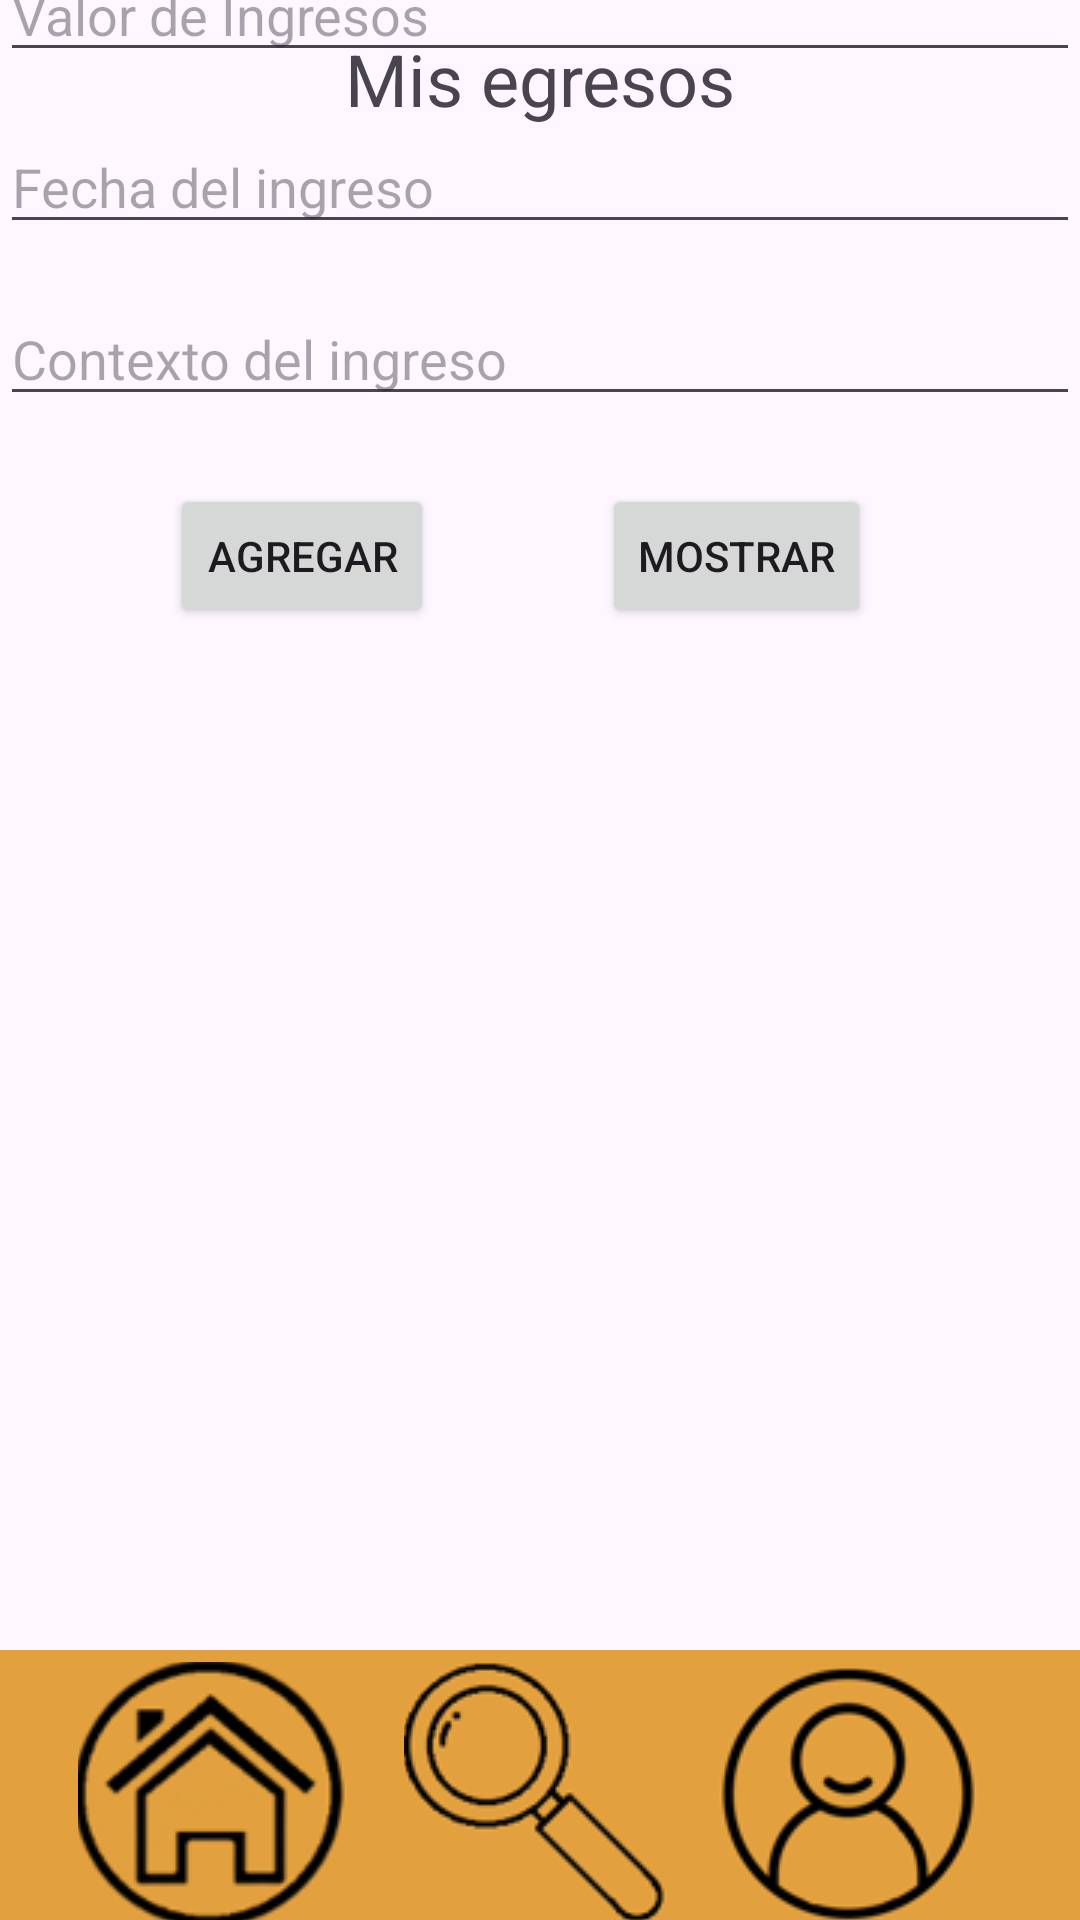

Named icons in this screenshot (1080w x 1920h) and their bounding boxes, (x1, y1, x2, y2):
home: (78, 1662, 344, 1920)
lupa: (404, 1663, 665, 1920)
perfil: (721, 1668, 975, 1920)
